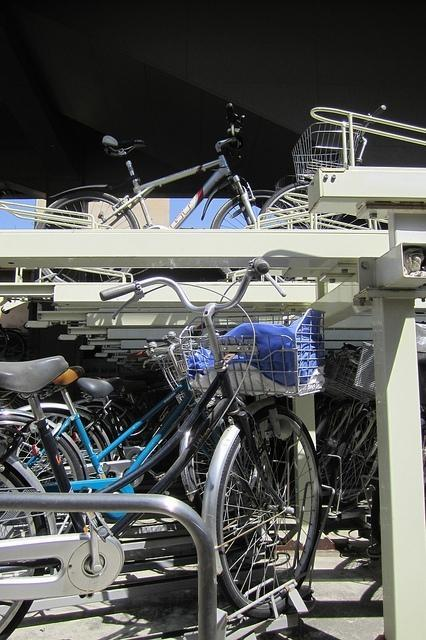bicycle: (1, 252, 330, 628), (40, 108, 257, 231), (56, 324, 202, 480), (256, 104, 388, 230), (311, 402, 382, 504)
